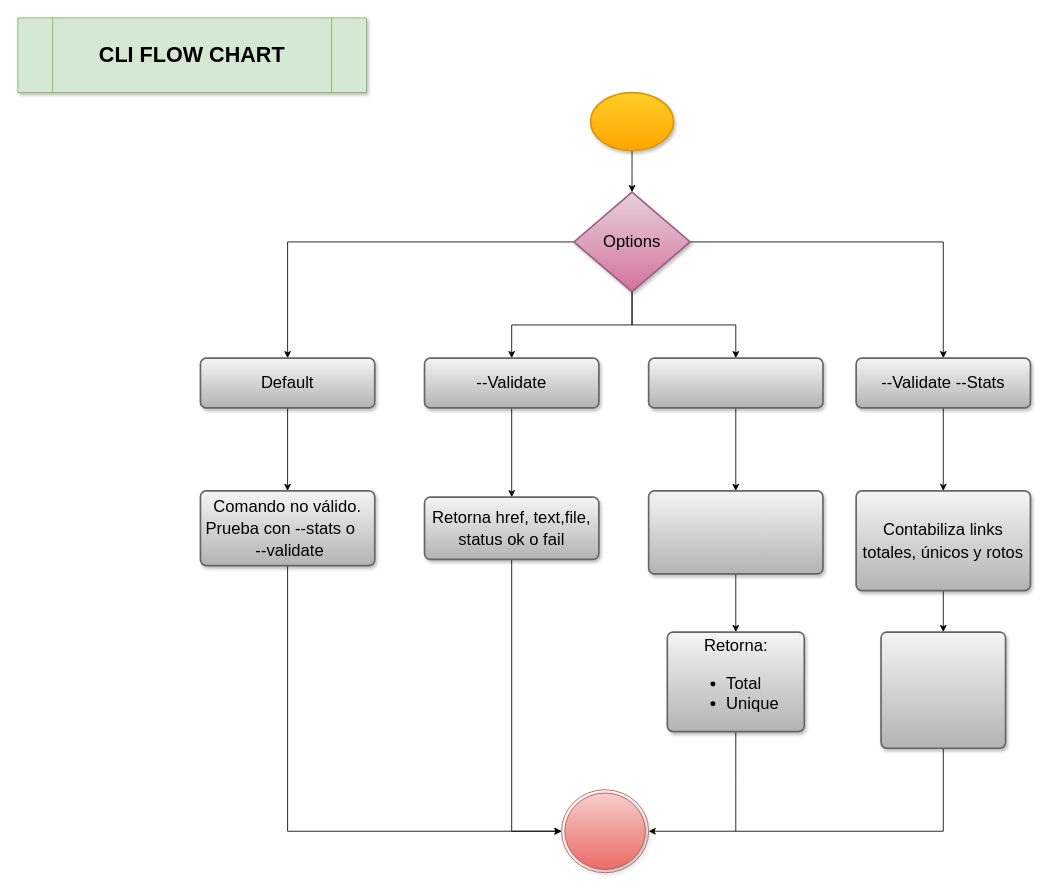
This 1051x893 diagram has some shape labels left out. The shapes that lost their labels are listed below. From the top down, each one's centre as x and y in pixels, then its label:
At pixel 632 122: "Start".
At pixel 736 384: "--Stats".
At pixel 736 533: "Contabiliza links totales y únicos".
At pixel 943 690: "Retorna: Total Unique Broken".
At pixel 605 832: "FIN".
